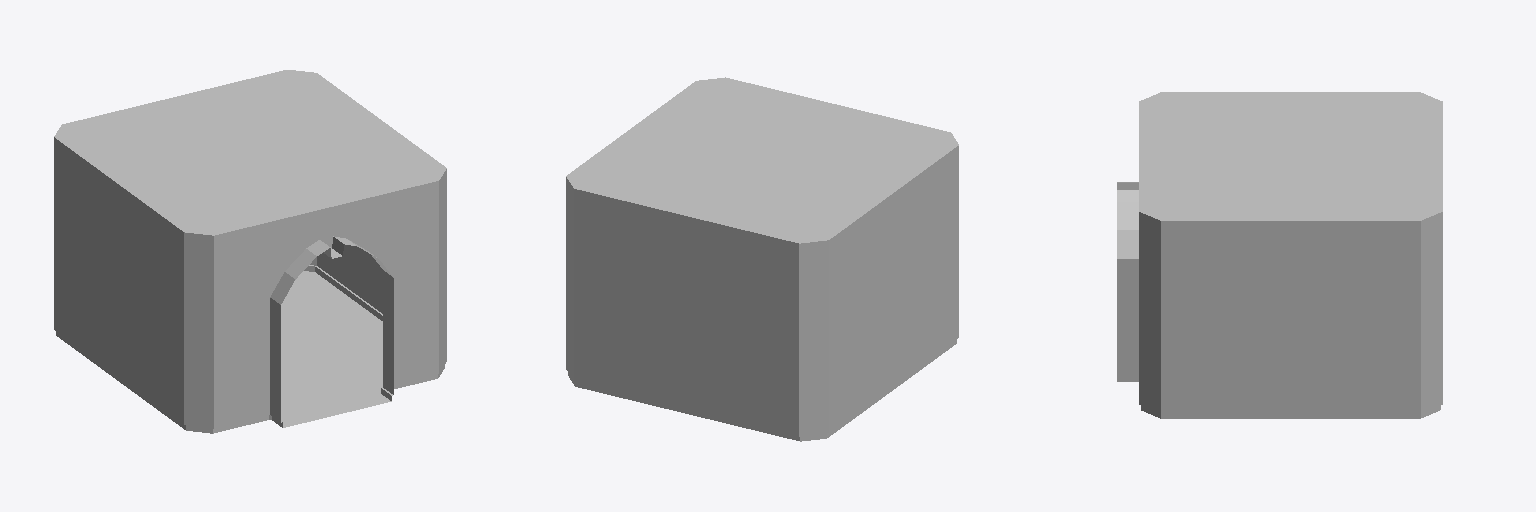
Rendered from RoomSm.obj.
The picture shows the model from 3 angles: view 1: azimuth 30°, elevation 25°; view 2: azimuth 150°, elevation 25°; view 3: azimuth 270°, elevation 25°; orthographic projection.
Visible parts, largest first — view 1: RoomSm001; view 2: RoomSm001; view 3: RoomSm001.
Boxes of the visible parts, box(x1,y1,x2,y2) form: RoomSm001: box(54, 70, 446, 433); RoomSm001: box(566, 77, 958, 441); RoomSm001: box(1117, 92, 1442, 418).
Size of the model in its own units: 140 by 101 by 150.